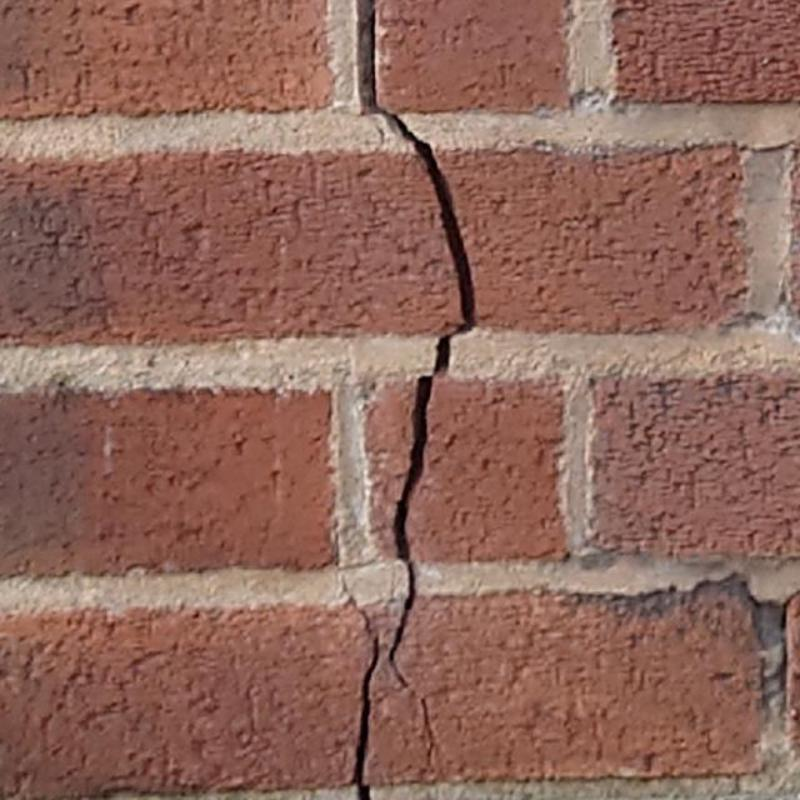pothole: (356, 0, 475, 768), (339, 567, 378, 799), (612, 572, 780, 609), (780, 589, 799, 691), (734, 140, 796, 154)
